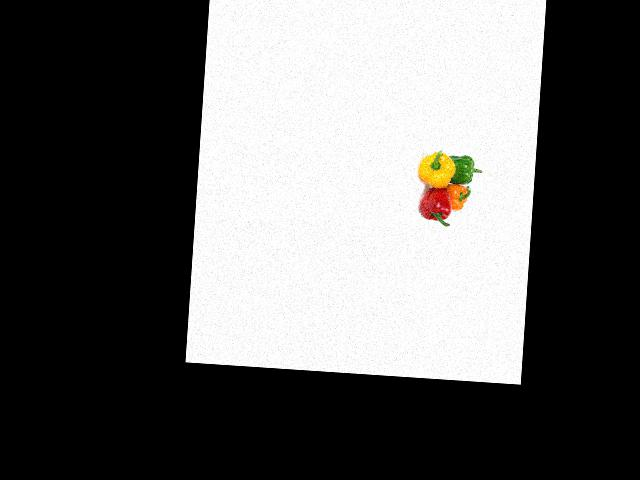bell_pepper: (416, 147, 456, 190)
